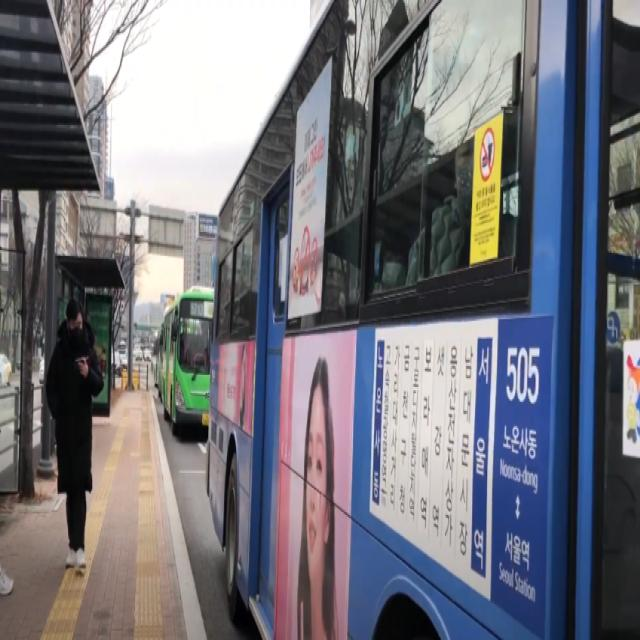bus-number: (190, 301, 203, 318)
